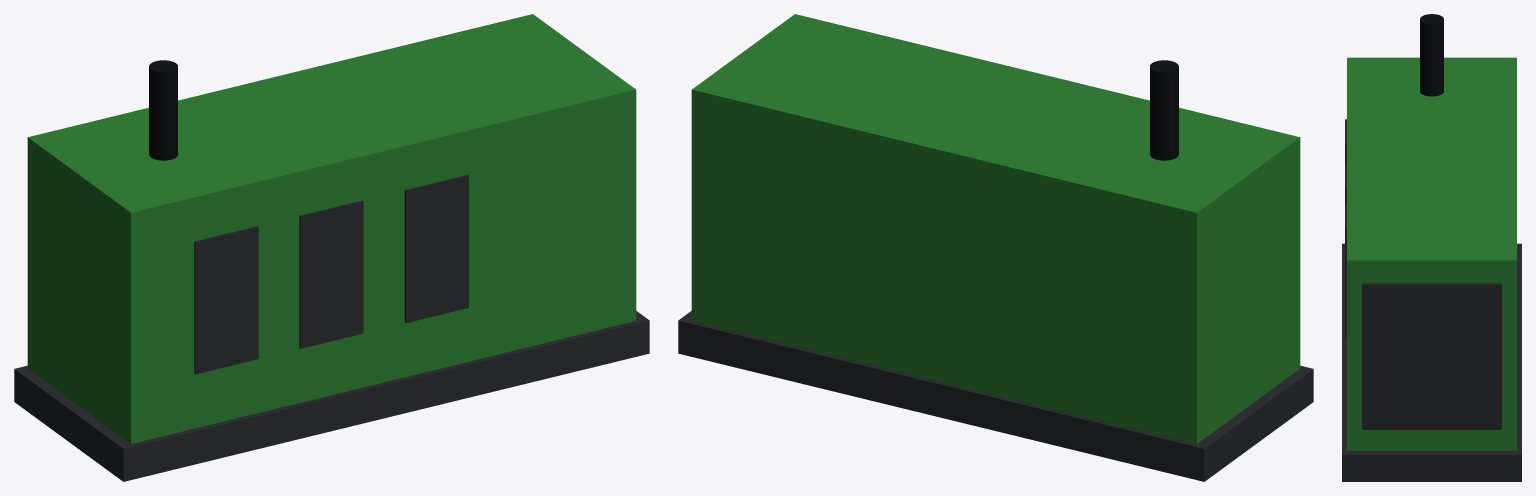
The model's file is prime-diesel-generator.glb.
The picture shows the model from 3 angles, left to right: view 1: azimuth 30°, elevation 25°; view 2: azimuth 150°, elevation 25°; view 3: azimuth 270°, elevation 25°; orthographic projection. The views are drawn at different scales.
Bounding box in the file's own units: 5 × 3.2 × 1.8.
